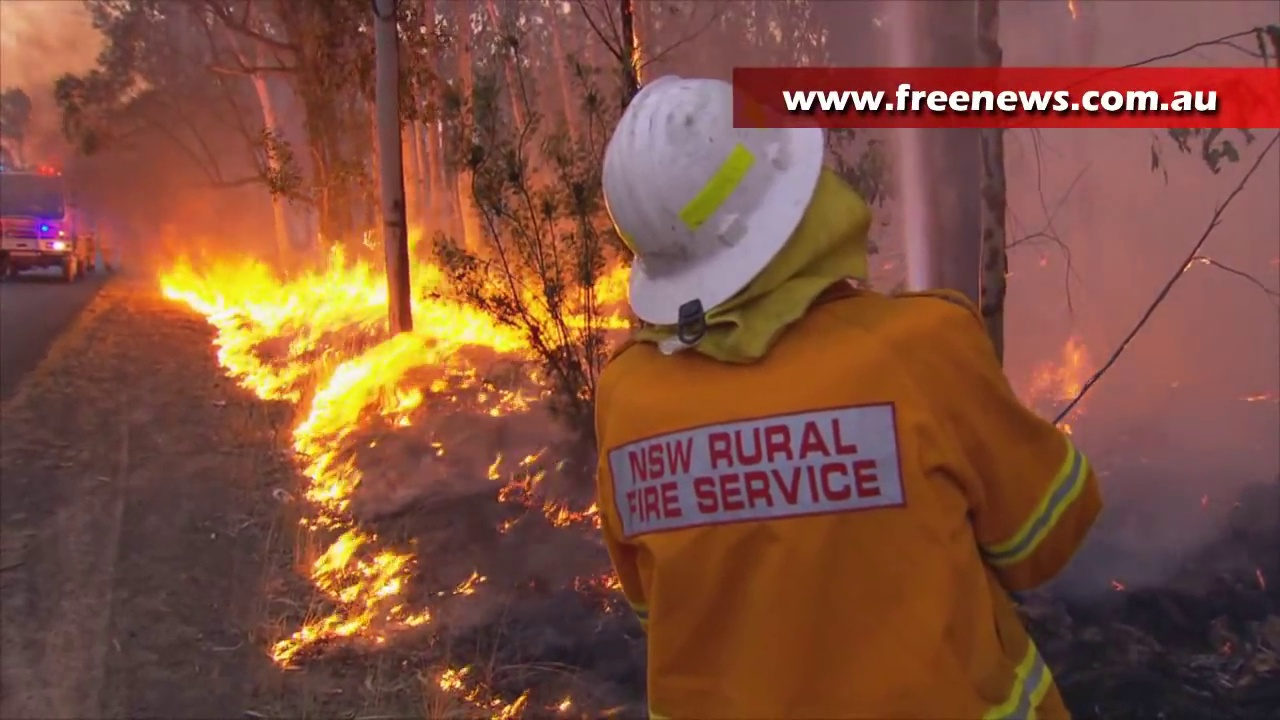fire: (271, 384, 418, 666), (163, 256, 388, 388), (406, 252, 628, 344), (488, 453, 597, 523), (440, 671, 523, 720), (432, 384, 530, 416)
